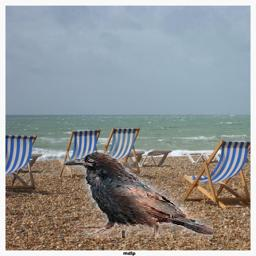Crow: (63, 152, 214, 239)
